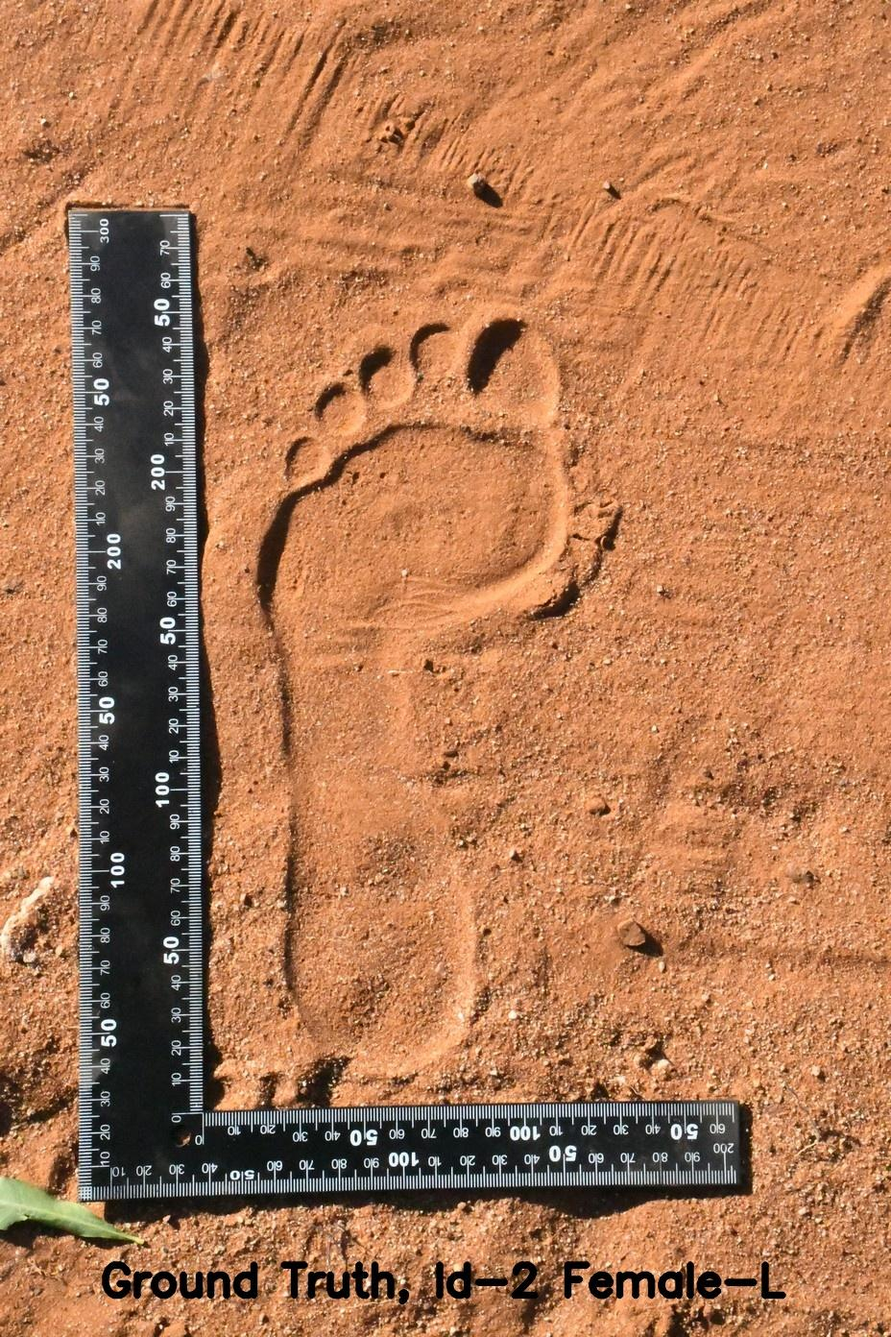human_foot_print: (244, 241, 622, 1079)
